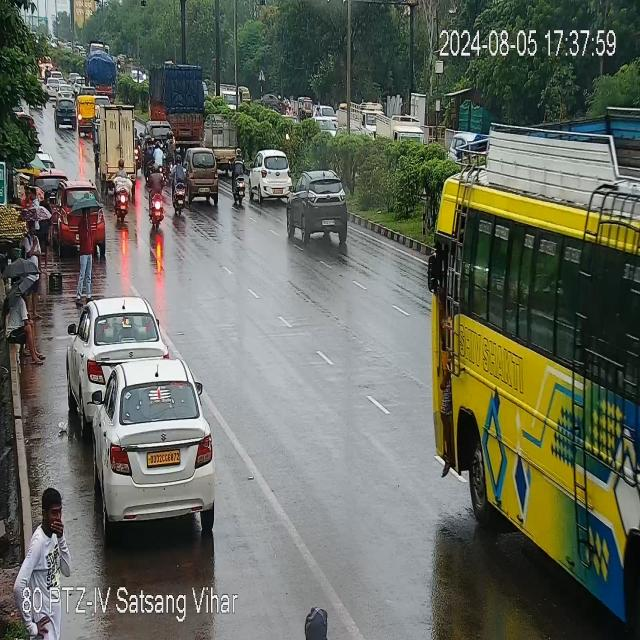2-wheelers: (110, 164, 131, 221), (171, 153, 189, 214), (148, 165, 164, 232), (232, 146, 244, 204), (153, 135, 165, 172)
auto: (76, 91, 96, 135), (298, 96, 312, 120)
bus: (424, 111, 640, 640)
car: (89, 365, 217, 533), (71, 296, 161, 401), (284, 173, 350, 244), (56, 188, 104, 250), (248, 152, 292, 200), (184, 147, 221, 199), (55, 96, 78, 129)
pedestrian: (30, 476, 72, 578), (3, 283, 47, 366), (79, 202, 94, 302), (42, 184, 54, 275), (24, 218, 41, 279), (23, 181, 37, 213)
truck: (150, 65, 207, 134), (94, 104, 134, 172), (206, 118, 242, 168), (84, 43, 116, 98)
